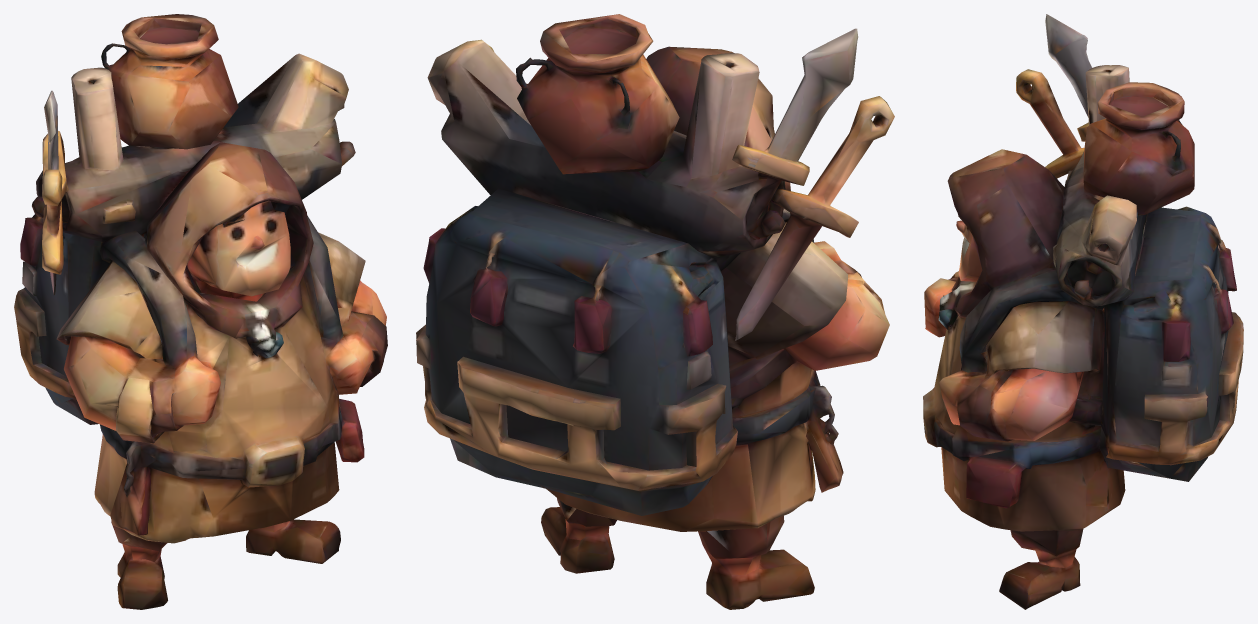
The model's file is merchant.glb.
3 renders of one model, left to right at view 1: azimuth 30°, elevation 25°; view 2: azimuth 150°, elevation 25°; view 3: azimuth 270°, elevation 25°, orthographic. The views are drawn at different scales.
Parts seen in each view (by area): view 1: tripo_node_5f10d0b7-5e7f-48d4-8f8e-a1b721a08dc0; view 2: tripo_node_5f10d0b7-5e7f-48d4-8f8e-a1b721a08dc0; view 3: tripo_node_5f10d0b7-5e7f-48d4-8f8e-a1b721a08dc0.
Boxes of the visible parts, x1=… form: tripo_node_5f10d0b7-5e7f-48d4-8f8e-a1b721a08dc0: x1=14, y1=14, x2=387, y2=609; tripo_node_5f10d0b7-5e7f-48d4-8f8e-a1b721a08dc0: x1=416, y1=14, x2=894, y2=609; tripo_node_5f10d0b7-5e7f-48d4-8f8e-a1b721a08dc0: x1=923, y1=14, x2=1243, y2=609.
Size of the model in its own units: 0.6996 by 0.9872 by 0.6089.
1 material, 1 textured.
